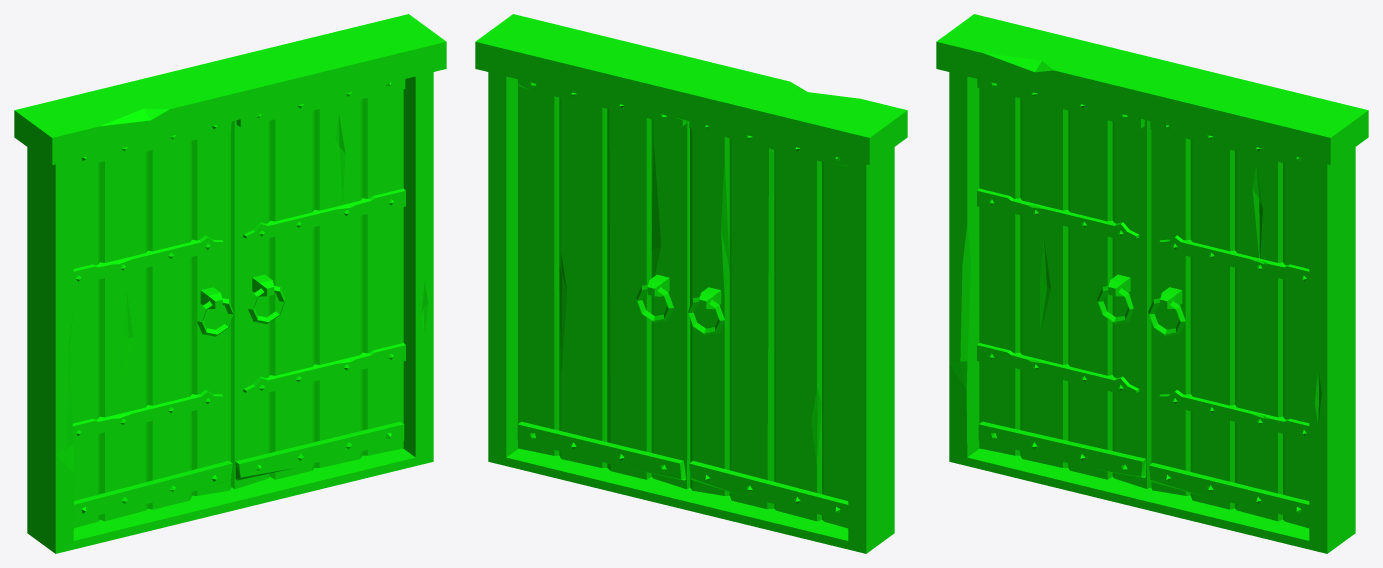
Rendered from SM_Door_Double_C_Regular_Fantasy.fbx.
3 views of the same model, side by side, from view 1: azimuth 30°, elevation 25°; view 2: azimuth 150°, elevation 25°; view 3: azimuth 330°, elevation 25° (orthographic).
Visible parts, largest first — view 1: door-double-c-regular-fantasy-door-r, door-double-c-regular-fantasy-frame, door-double-c-regular-fantasy-door-l; view 2: door-double-c-regular-fantasy-door-r, door-double-c-regular-fantasy-frame, door-double-c-regular-fantasy-door-l; view 3: door-double-c-regular-fantasy-frame, door-double-c-regular-fantasy-door-l, door-double-c-regular-fantasy-door-r.
Boxes of the visible parts, left/top/right/bottom form: door-double-c-regular-fantasy-door-r: left=231, top=79, right=405, bottom=489; door-double-c-regular-fantasy-frame: left=14, top=14, right=446, bottom=553; door-double-c-regular-fantasy-door-l: left=69, top=121, right=233, bottom=528; door-double-c-regular-fantasy-door-r: left=517, top=79, right=690, bottom=489; door-double-c-regular-fantasy-frame: left=475, top=14, right=907, bottom=553; door-double-c-regular-fantasy-door-l: left=688, top=121, right=848, bottom=528; door-double-c-regular-fantasy-frame: left=936, top=14, right=1368, bottom=553; door-double-c-regular-fantasy-door-l: left=977, top=79, right=1151, bottom=488; door-double-c-regular-fantasy-door-r: left=1148, top=121, right=1309, bottom=528.
Bounding box in the file's own units: 2.41 × 2.46 × 0.4.
